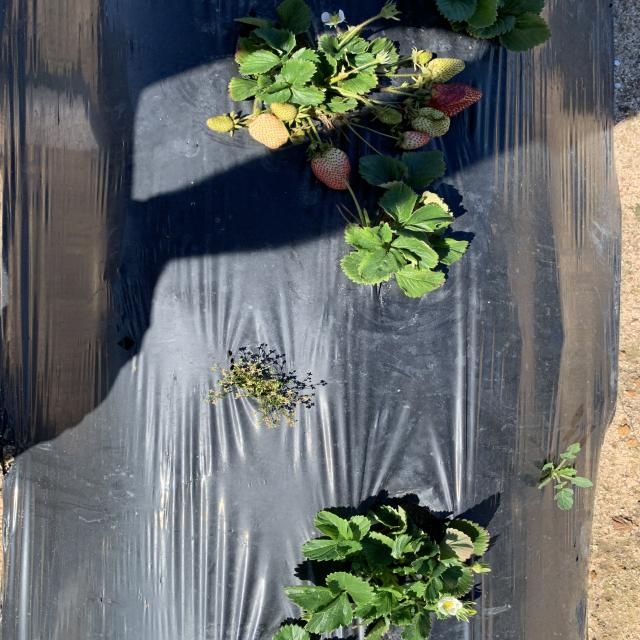unripe: (294, 138, 364, 197), (422, 81, 486, 115)
